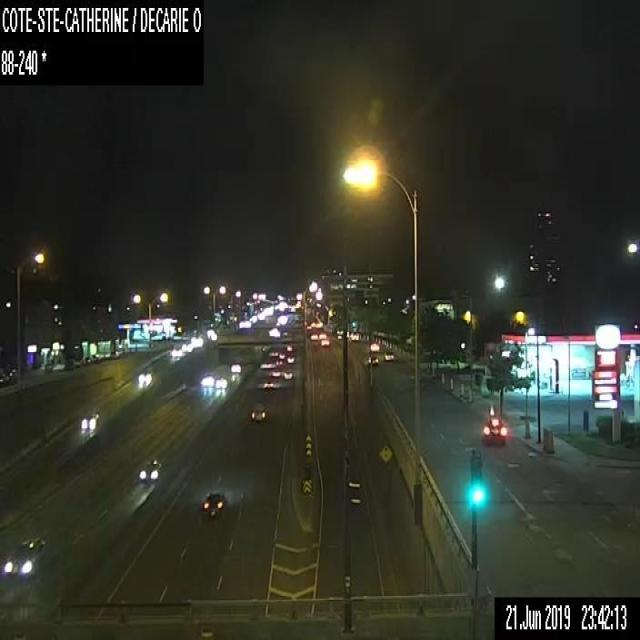construction: (546, 428, 554, 452), (542, 426, 546, 450), (467, 384, 472, 403), (460, 381, 464, 394), (441, 371, 444, 382), (450, 377, 452, 388)
vehicle: (3, 537, 44, 576), (201, 491, 226, 517), (482, 417, 506, 441), (138, 458, 160, 482), (0, 362, 17, 386), (80, 411, 100, 429), (250, 402, 266, 422), (137, 370, 151, 384), (200, 373, 214, 386), (214, 375, 227, 388), (190, 336, 203, 347), (230, 362, 241, 373), (262, 380, 274, 390), (368, 354, 378, 365), (384, 350, 394, 361), (170, 348, 182, 356), (349, 331, 359, 340), (369, 342, 379, 351), (181, 342, 191, 351), (283, 370, 292, 379), (320, 338, 329, 346), (286, 354, 294, 362), (268, 350, 277, 357), (318, 332, 326, 339), (272, 369, 280, 376), (263, 361, 270, 368), (310, 332, 317, 339), (275, 359, 282, 365), (286, 344, 292, 350), (279, 352, 284, 358)
